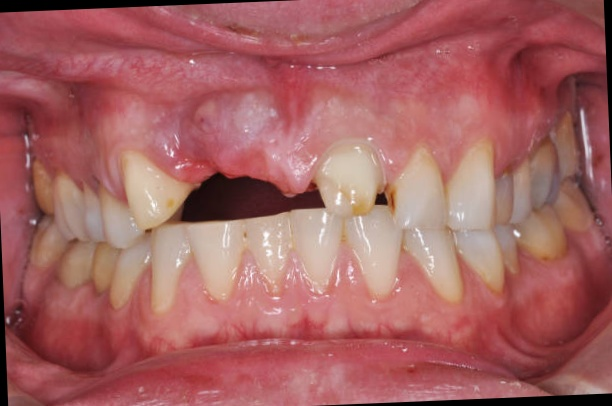Gingivitis: (190, 307, 439, 347)
